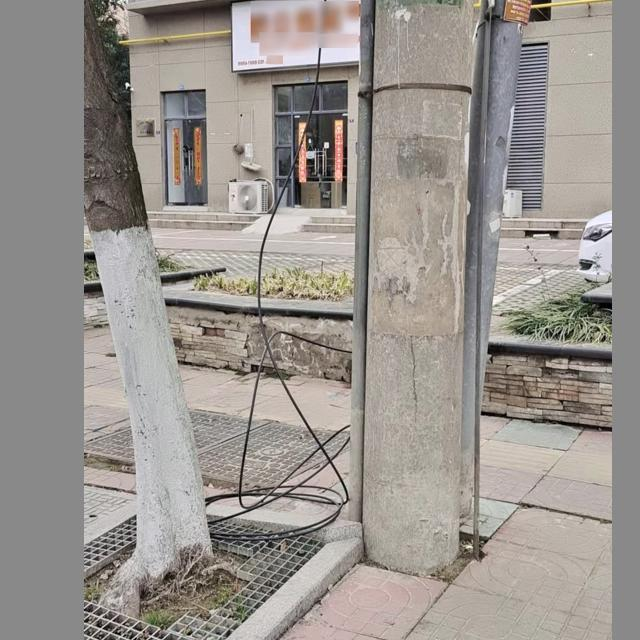good: (84, 405, 351, 491)
